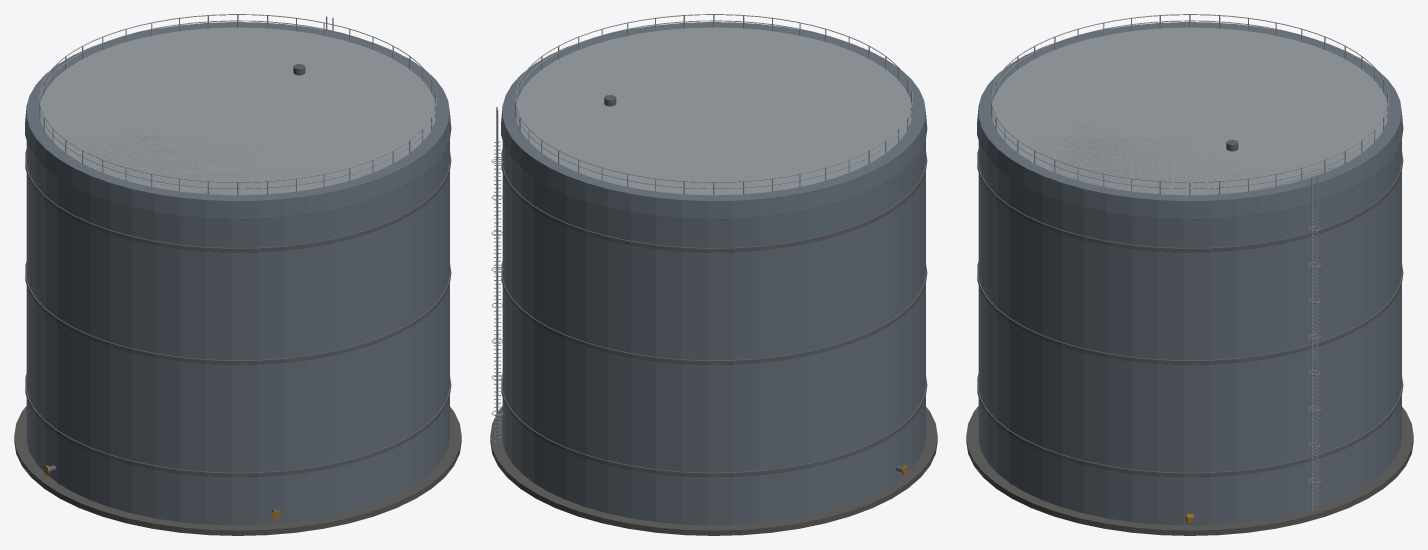
The model's file is bl-tank.glb.
The picture shows the model from 3 angles, left to right: view 1: azimuth 30°, elevation 25°; view 2: azimuth 150°, elevation 25°; view 3: azimuth 270°, elevation 25°; orthographic projection.
Visible parts, largest first — view 1: tank; view 2: tank; view 3: tank.
Boxes of the visible parts, x1,y1,x2,y2 form: tank: (14,14,461,535); tank: (490,14,937,535); tank: (966,14,1413,535).
Size of the model in its own units: 34.29 by 28.81 by 33.8.
